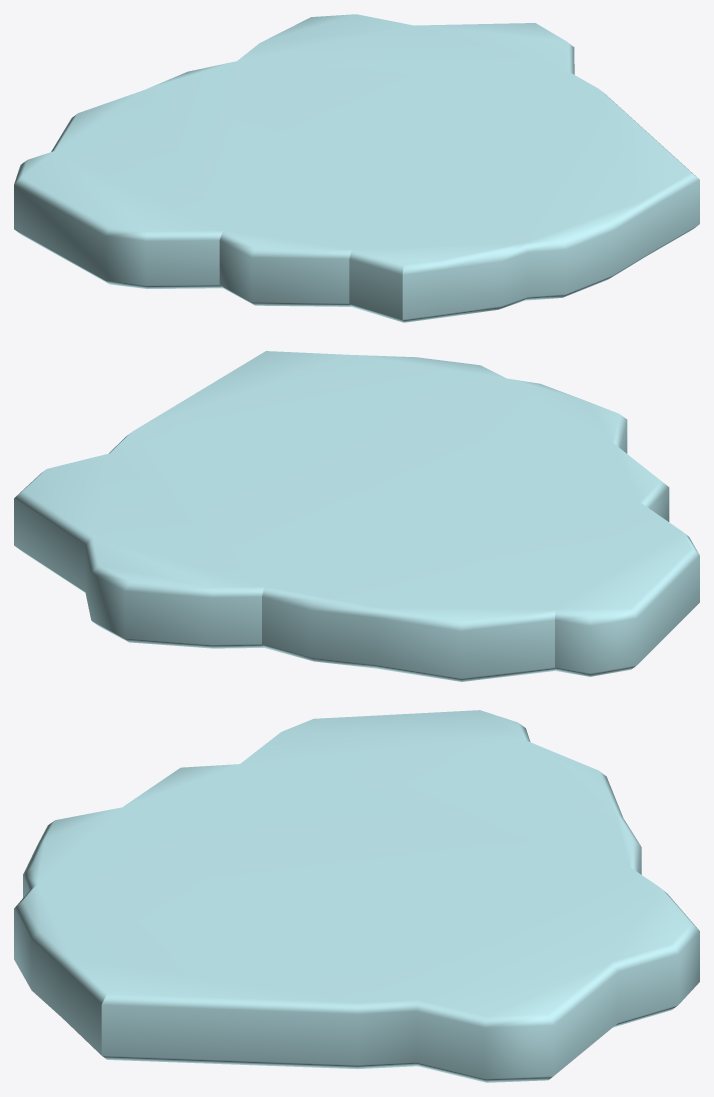
The model's file is ice_floe_medium_004.fbx.
3 views of the same model, one above another, from view 1: azimuth 30°, elevation 25°; view 2: azimuth 150°, elevation 25°; view 3: azimuth 270°, elevation 25° (orthographic). The views are drawn at different scales.
Parts seen in each view (by area): view 1: ice_floe_medium_004; view 2: ice_floe_medium_004; view 3: ice_floe_medium_004.
Part boxes in pixels (x1=…): ice_floe_medium_004: x1=14, y1=14, x2=699, y2=322; ice_floe_medium_004: x1=14, y1=351, x2=699, y2=681; ice_floe_medium_004: x1=14, y1=710, x2=699, y2=1082.
Bounding box in the file's own units: 910 × 840 × 89.44.
